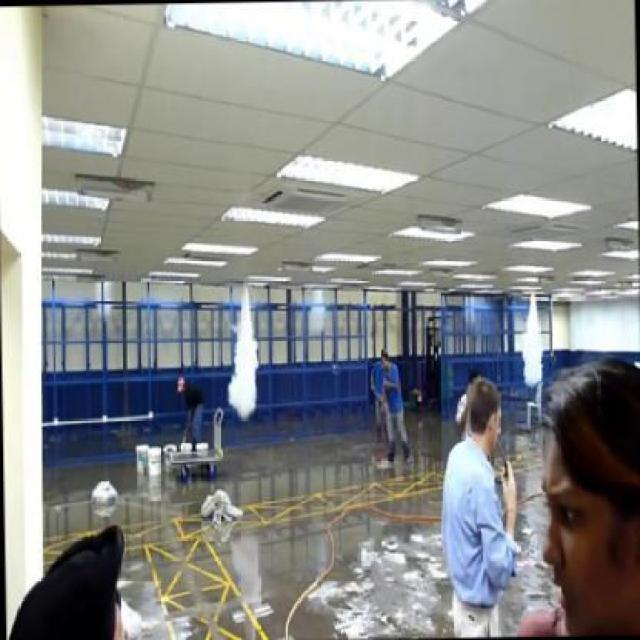fire: (218, 282, 264, 424), (514, 298, 550, 387)
